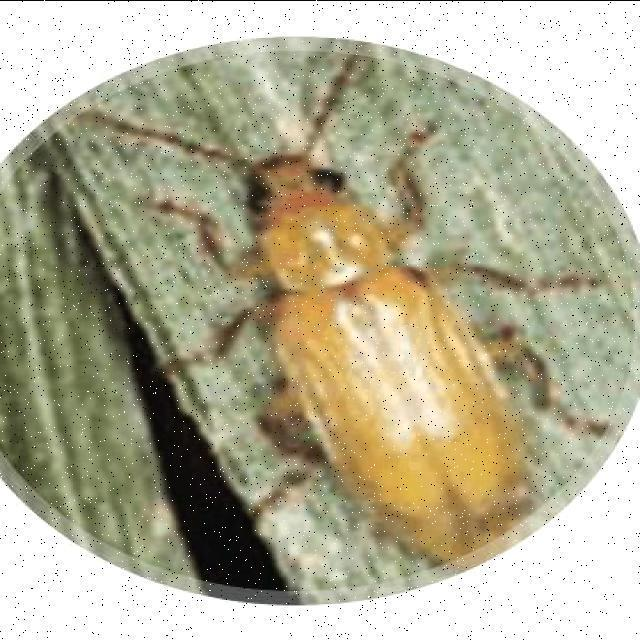gusano_gris: (150, 52, 566, 574)
